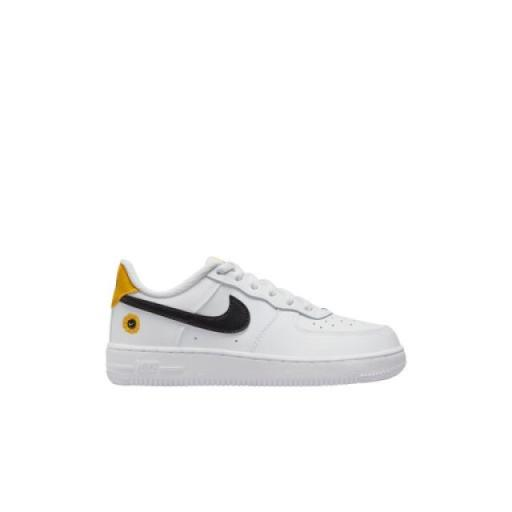Nike: (113, 286, 259, 341)
